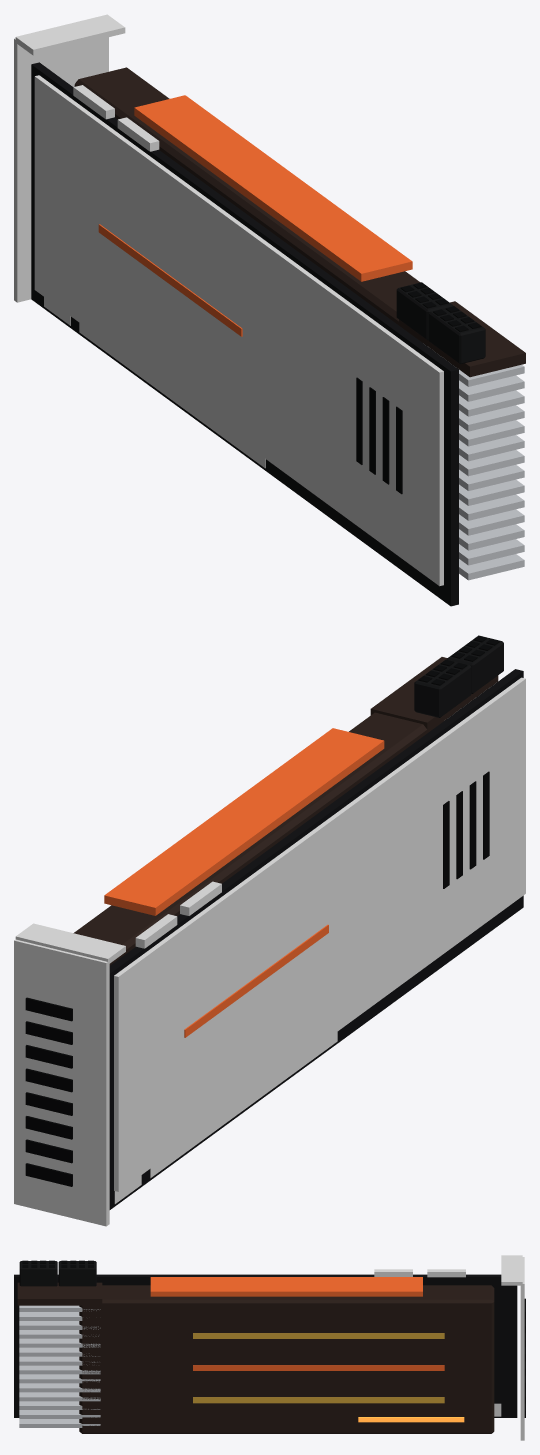
File: hw_gpu_mi300x.glb
3 renders of one model, top to bottom at view 1: azimuth 30°, elevation 25°; view 2: azimuth 150°, elevation 25°; view 3: azimuth 270°, elevation 25°, orthographic. The views are drawn at different scales.
Visible parts, largest first — view 1: Body; view 2: Body; view 3: Body.
Part boxes in pixels (box(x1,y1,x2,y2)): Body: box(14, 14, 525, 606); Body: box(14, 635, 525, 1226); Body: box(14, 1255, 525, 1440).
Bounding box in the file's own units: 0.0361 × 0.1006 × 0.2897.
